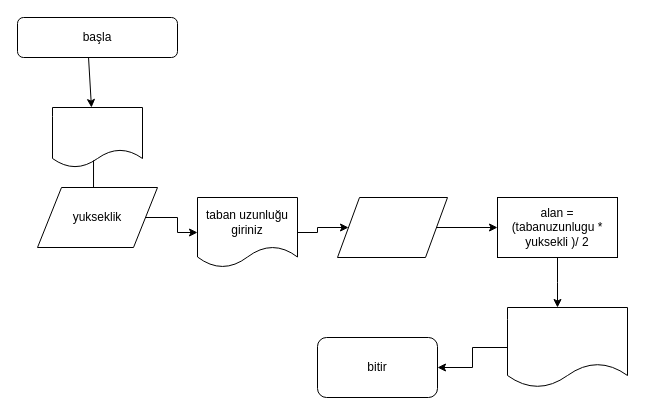
Image size: 645x415. Some labels were removed from this diagram. The shapes that lost their labels are listed below. From the top down, each one's centre as x and y in pixels, then its label:
point 97,137: yükseklik giriniz
point 392,227: tabanUzunlugu
point 567,347: alan
